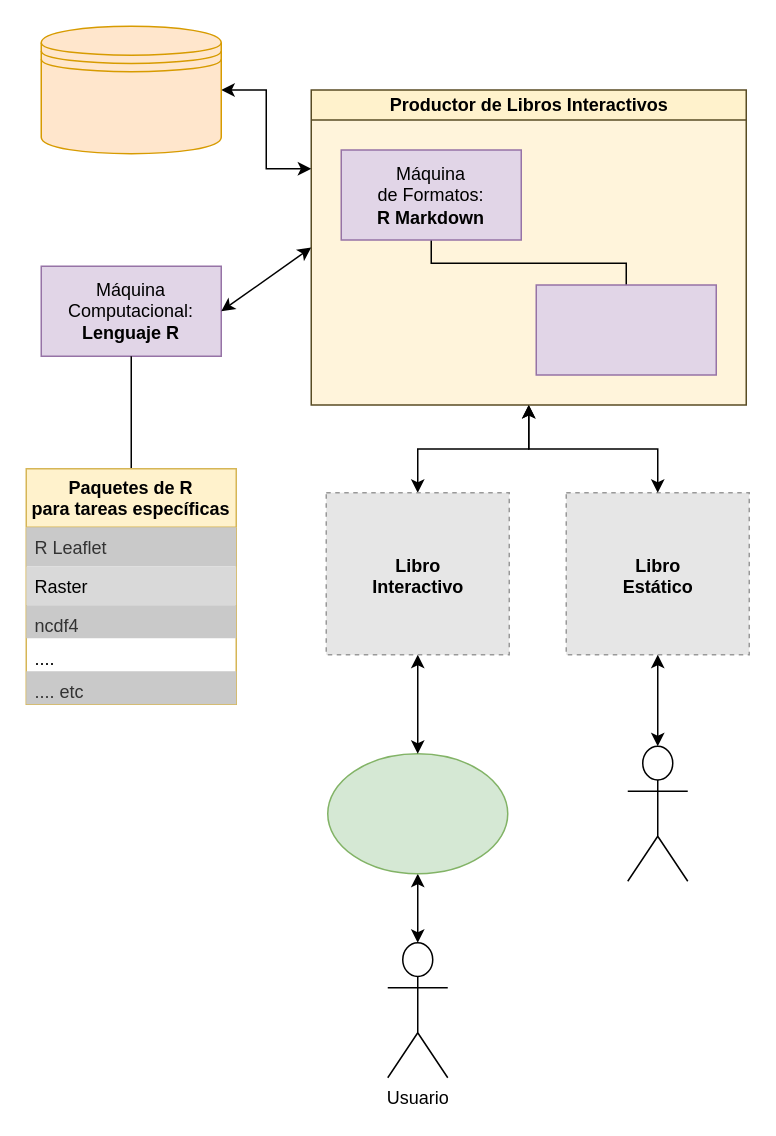
Some shapes in this 776 by 1136 pixel diagram are drawn without their labels. Grey dashed boxes stand in for pictures. Each missing label, with the box of its shape:
Fuentes de Información: (40, 25, 221, 154)
Lector: (626, 745, 688, 881)
Máquina de Interacciones: Shiny Server: (535, 284, 716, 375)
Web: (326, 752, 508, 874)
